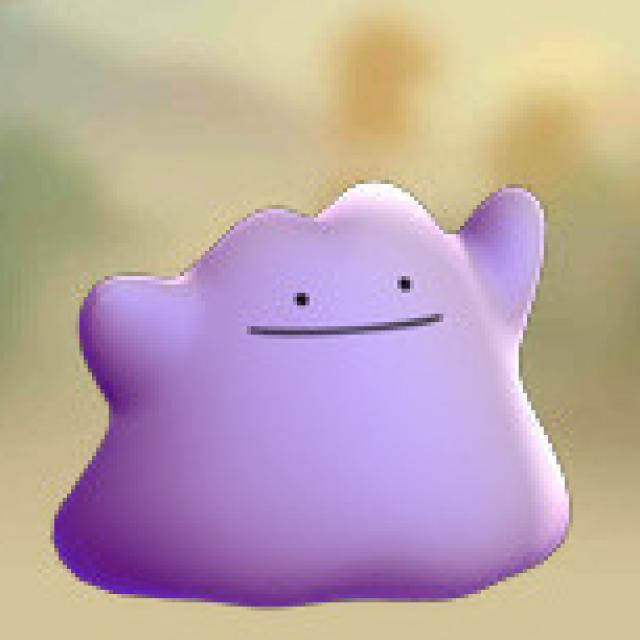Ditto: (49, 176, 562, 604)
